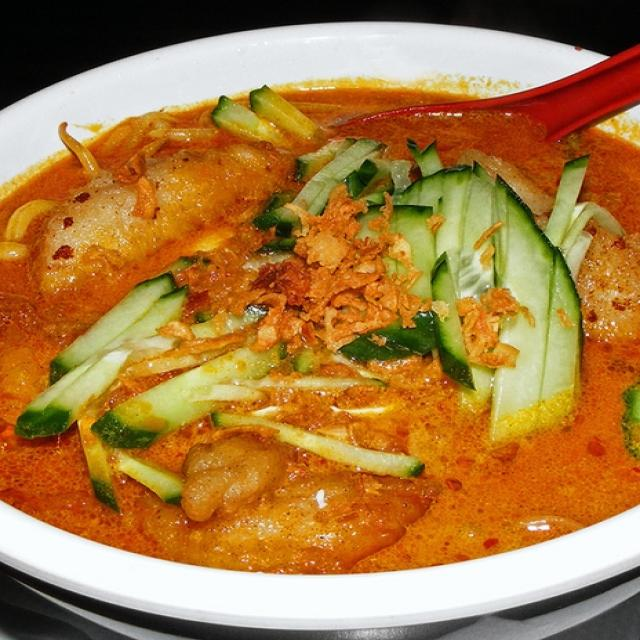面条主食: (25, 39, 607, 602)
